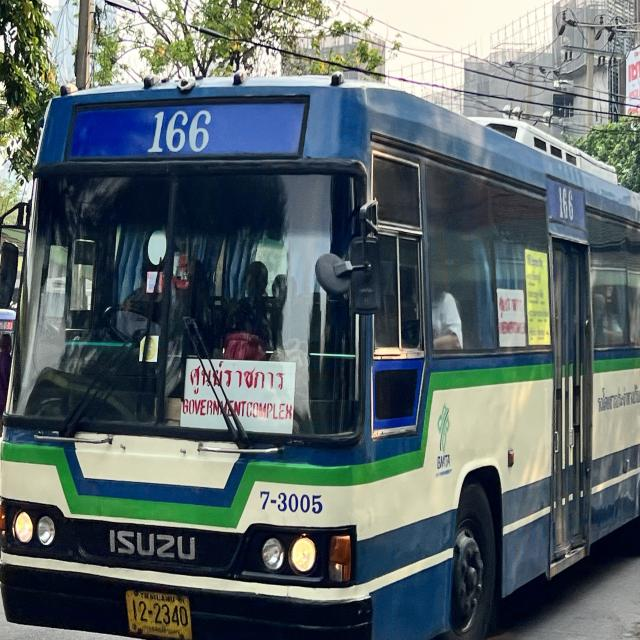BMTA-bus: (0, 67, 640, 640)
Bus-Line-Number: (131, 98, 231, 163)
Destination-Sign-Extra-Bus-Expressway: (178, 356, 297, 434)
